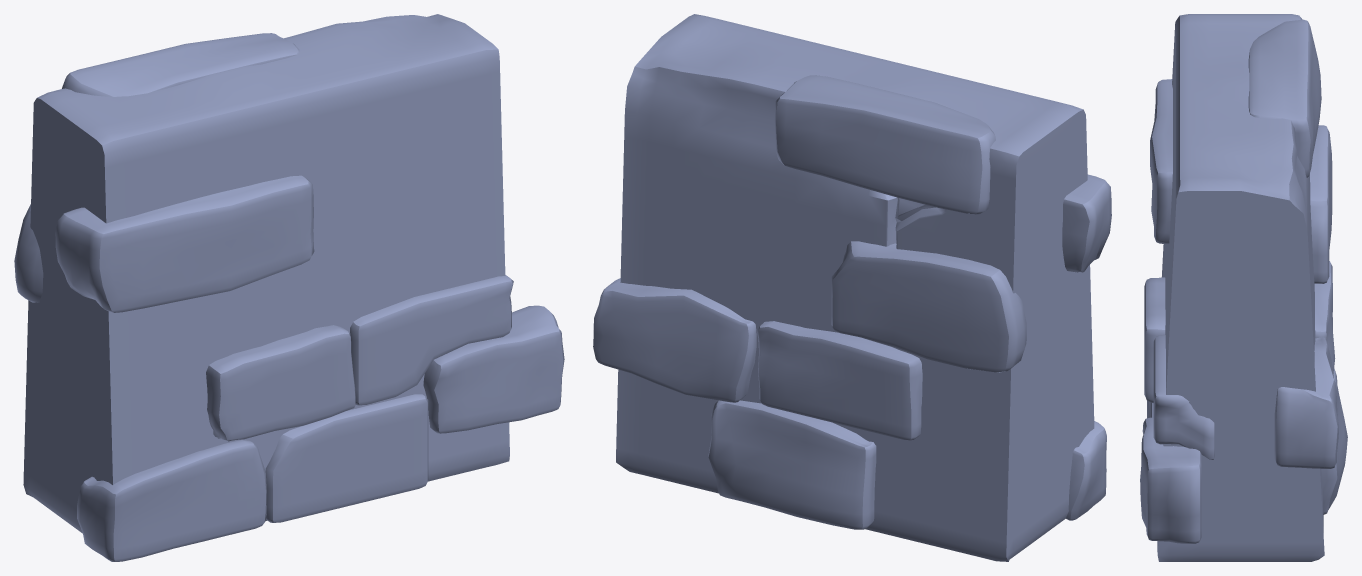
The model's file is Wall_S_1.fbx.
3 views of the same model, side by side, from view 1: azimuth 30°, elevation 25°; view 2: azimuth 150°, elevation 25°; view 3: azimuth 270°, elevation 25° (orthographic). The views are drawn at different scales.
Parts seen in each view (by area): view 1: wall_S_A; view 2: wall_S_A; view 3: wall_S_A.
Boxes of the visible parts, x1,y1,x2,y2 form: wall_S_A: [14, 14, 564, 561]; wall_S_A: [593, 14, 1111, 561]; wall_S_A: [1140, 14, 1347, 561].
Size of the model in its own units: 6.17 by 5.11 by 2.48.
